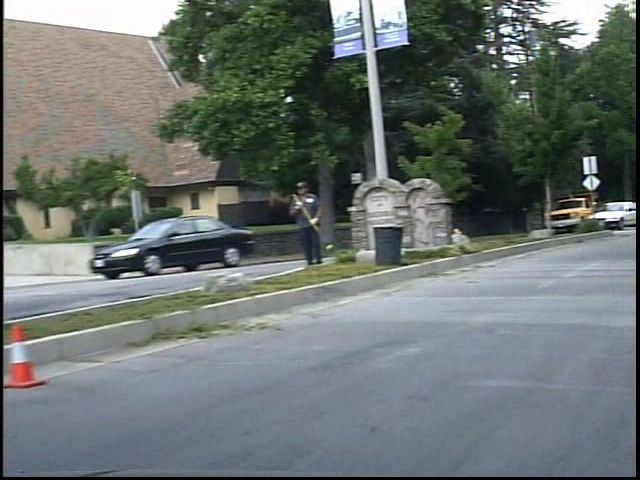person: (298, 176, 338, 268)
